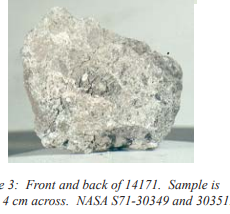Breccia: (22, 6, 177, 152)
